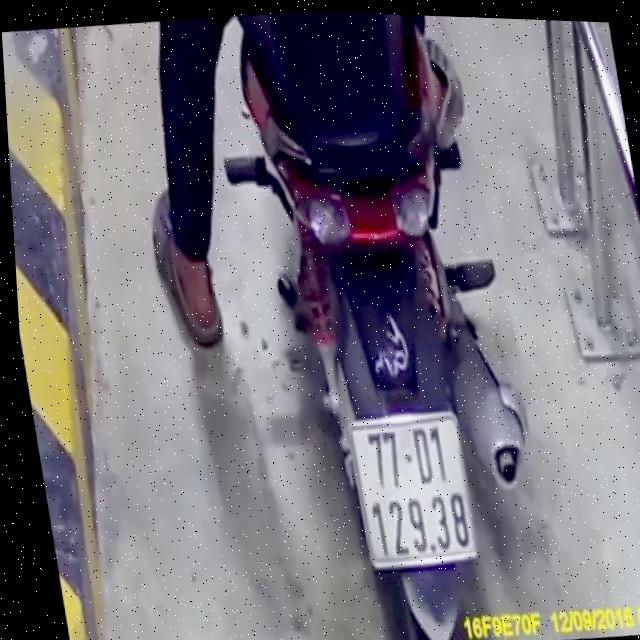motorcycle: (199, 7, 569, 640)
plate: (341, 406, 484, 571)
